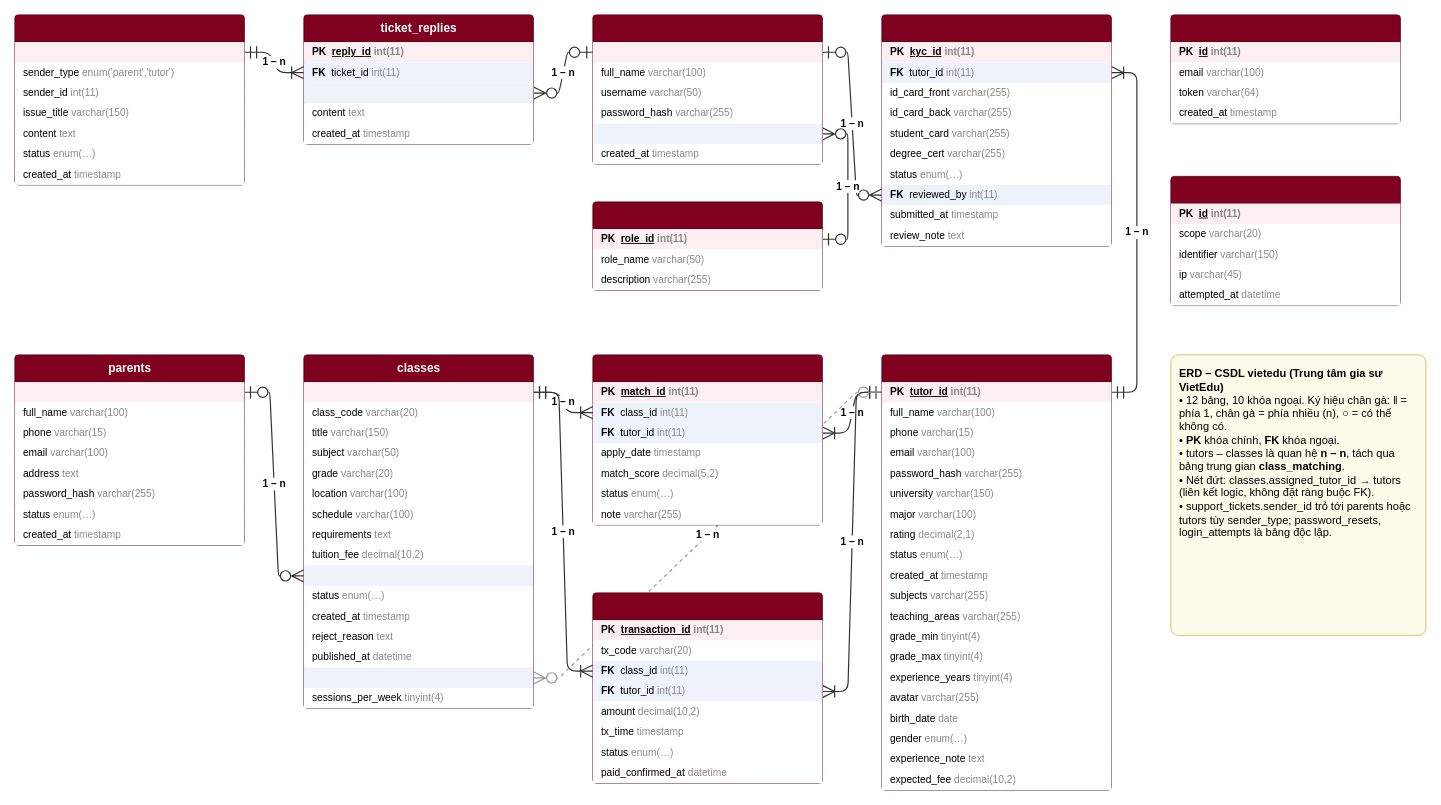
Image size: 1441x805. Some labels were removed from this diagram. The shapes that lost their labels are listed below. From the top down, each one's box as (x1, y1, x2, y2) in pixels, then its label:
(14, 42, 244, 62): PK ticket_id int(11)
(592, 42, 822, 62): PK staff_id int(11)
(1170, 14, 1400, 124): password_resets
(14, 14, 244, 185): support_tickets
(303, 82, 533, 103): FK staff_id int(11)
(592, 14, 822, 164): staffs
(592, 123, 822, 144): FK role_id int(11)
(881, 14, 1111, 246): kyc_profiles
(592, 201, 822, 290): roles
(1170, 176, 1400, 306): login_attempts
(14, 382, 244, 402): PK parent_id int(11)
(303, 382, 533, 402): PK class_id int(11)
(592, 354, 822, 525): class_matching
(303, 565, 533, 586): FK parent_id int(11)
(881, 354, 1111, 790): tutors
(303, 667, 533, 688): FK assigned_tutor_id int(11)
(592, 592, 822, 783): transactions
